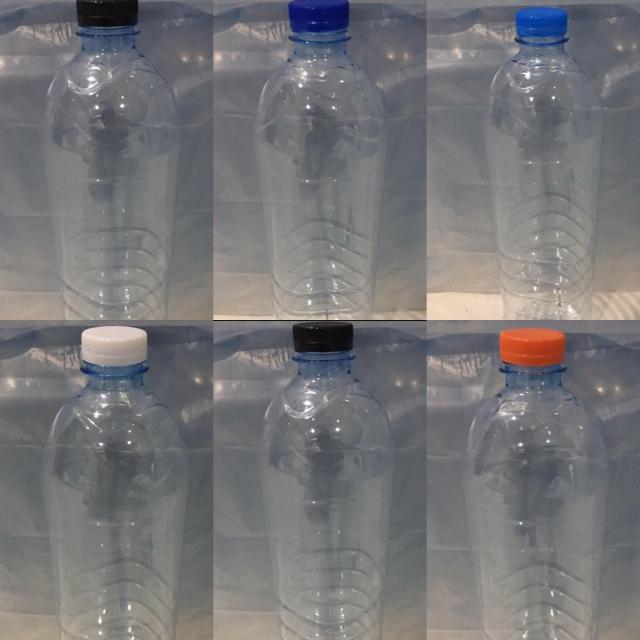plastik: (44, 325, 189, 640), (464, 328, 609, 639), (42, 0, 181, 320), (260, 322, 394, 639), (255, 0, 388, 319), (485, 6, 604, 319)
